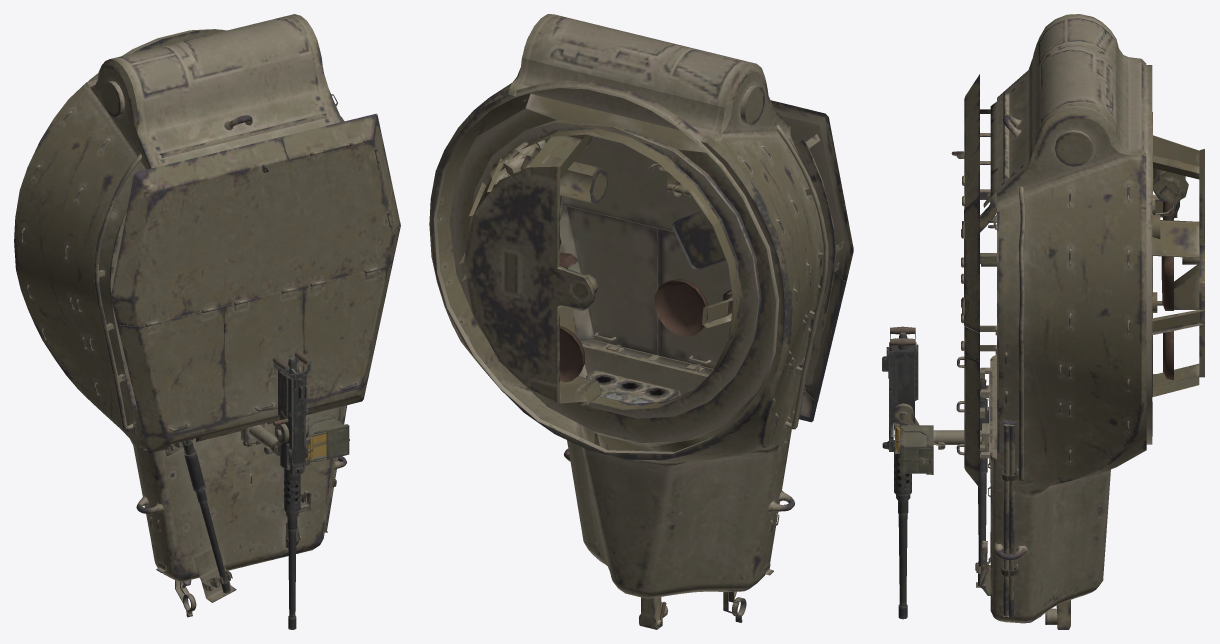
Rendered from Turret_02.glb.
The picture shows the model from 3 angles, left to right: view 1: azimuth 30°, elevation 25°; view 2: azimuth 150°, elevation 25°; view 3: azimuth 270°, elevation 25°; orthographic projection. The views are drawn at different scales.
Visible parts, largest first — view 1: set_0_group_0; view 2: set_0_group_0; view 3: set_0_group_0.
Part boxes in pixels (box(x1,y1,x2,y2)): set_0_group_0: box(14, 14, 400, 629); set_0_group_0: box(429, 14, 853, 629); set_0_group_0: box(882, 14, 1204, 629).
Bounding box in the file's own units: 2.11 × 3.29 × 1.7.
Materials: 1 (1 with a texture image).
